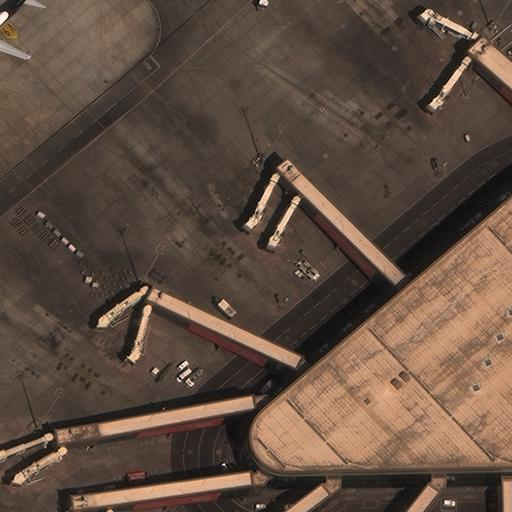Medium Civil Transport: (0, 0, 35, 62)
